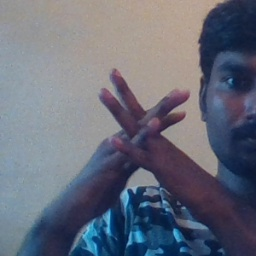W: (90, 57, 198, 195)
